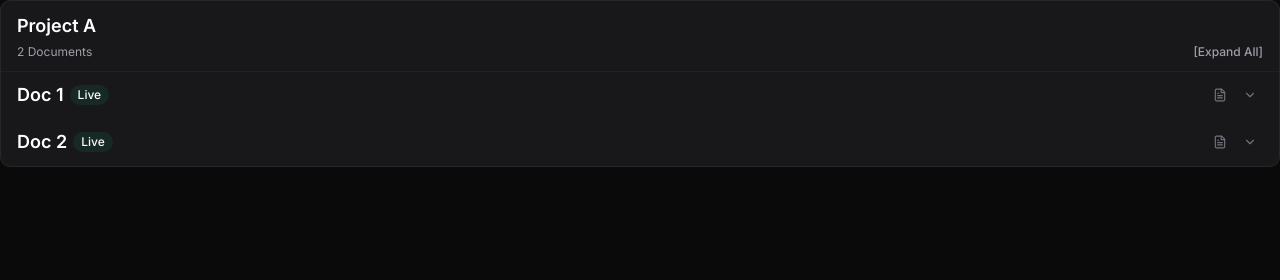
Test case: BlueprintGroup › expands single document on click
Expected: the text "Description 1" is not shown
Click the text "Doc 1" at (40, 95), box [17, 84, 64, 106]
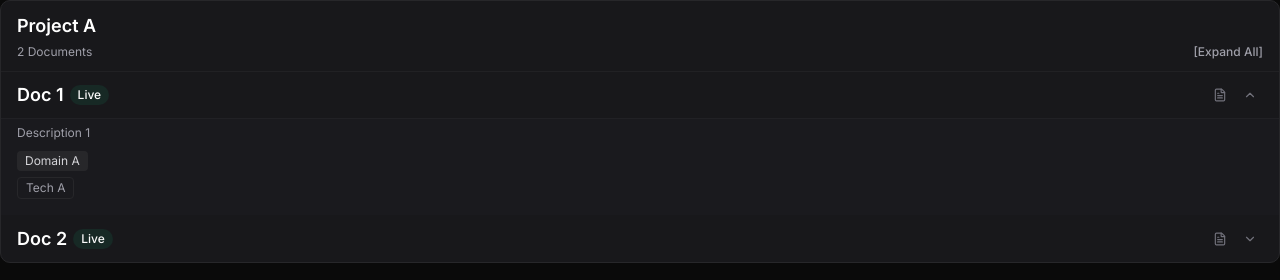
Result: the text "Description 1" is shown at [17, 125, 90, 140]
